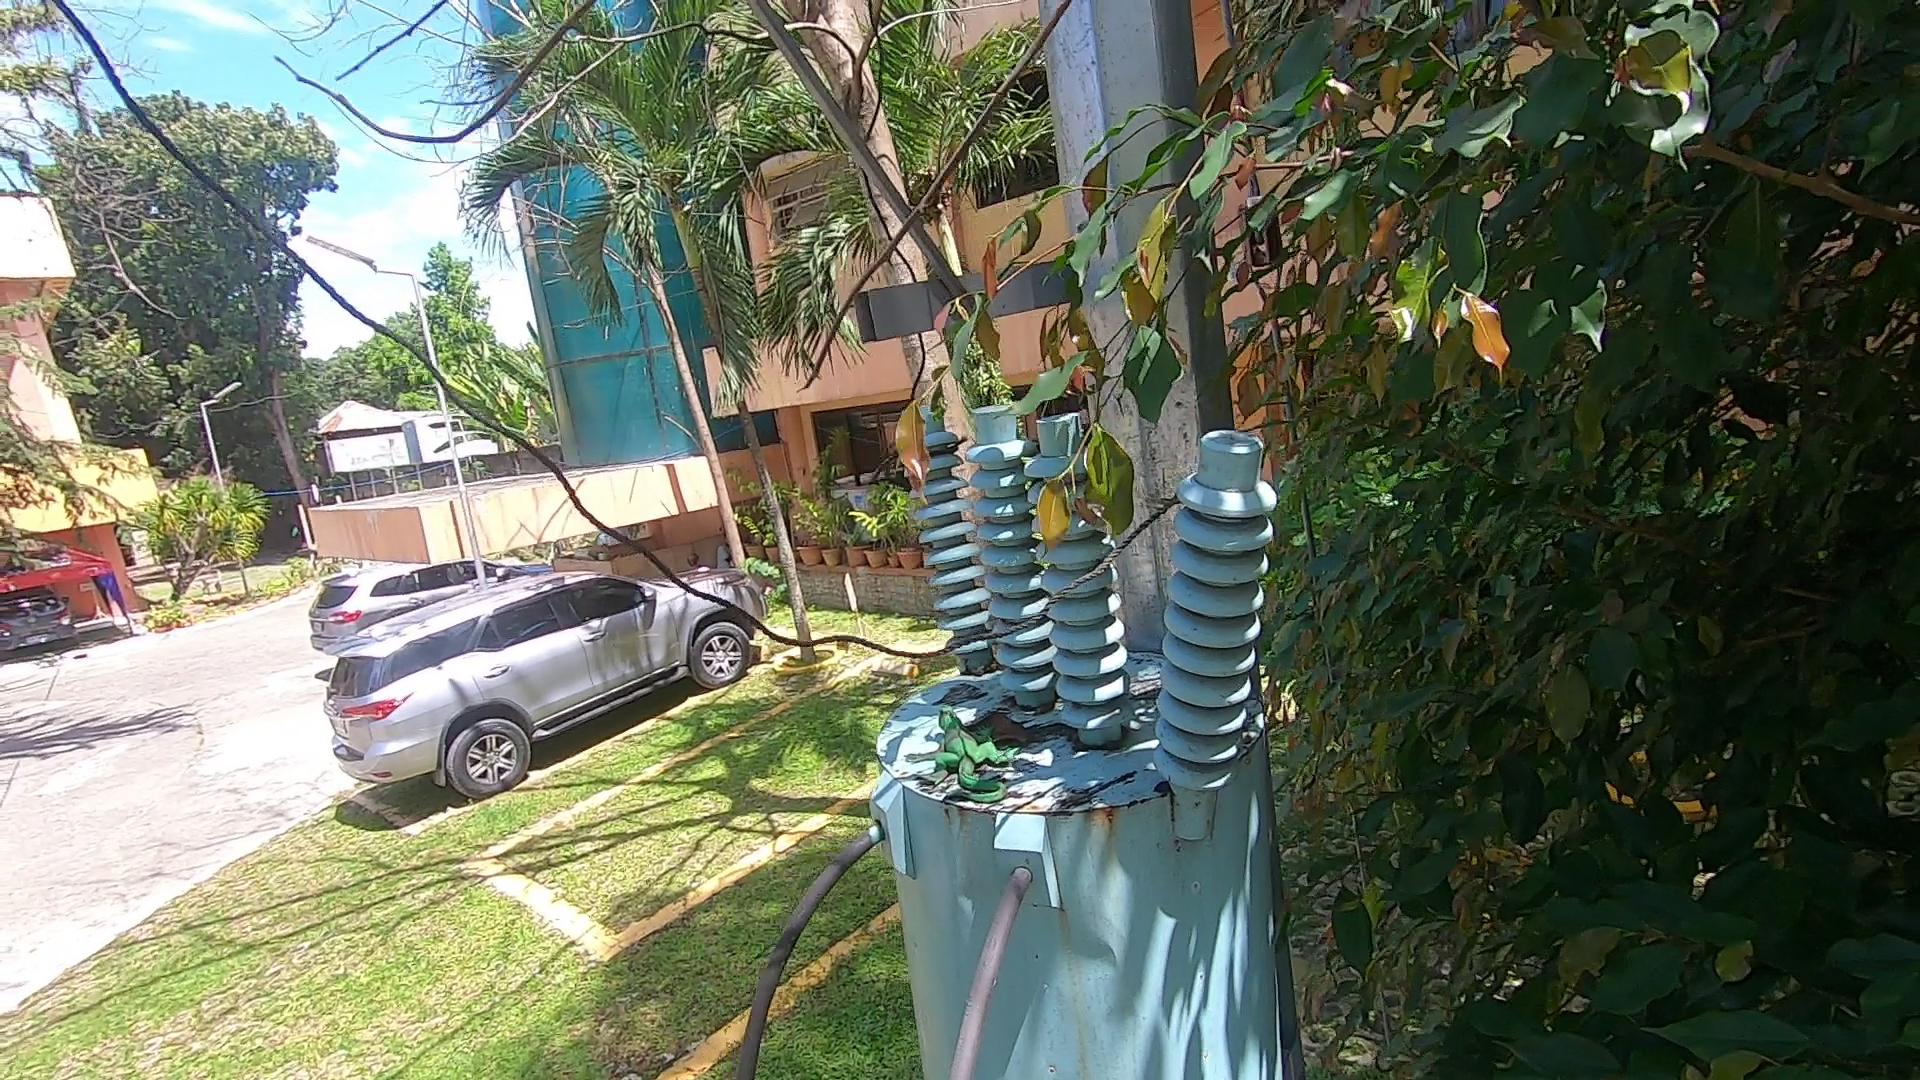leaf: (952, 711, 1033, 746)
tree branch: (765, 9, 1077, 483)
